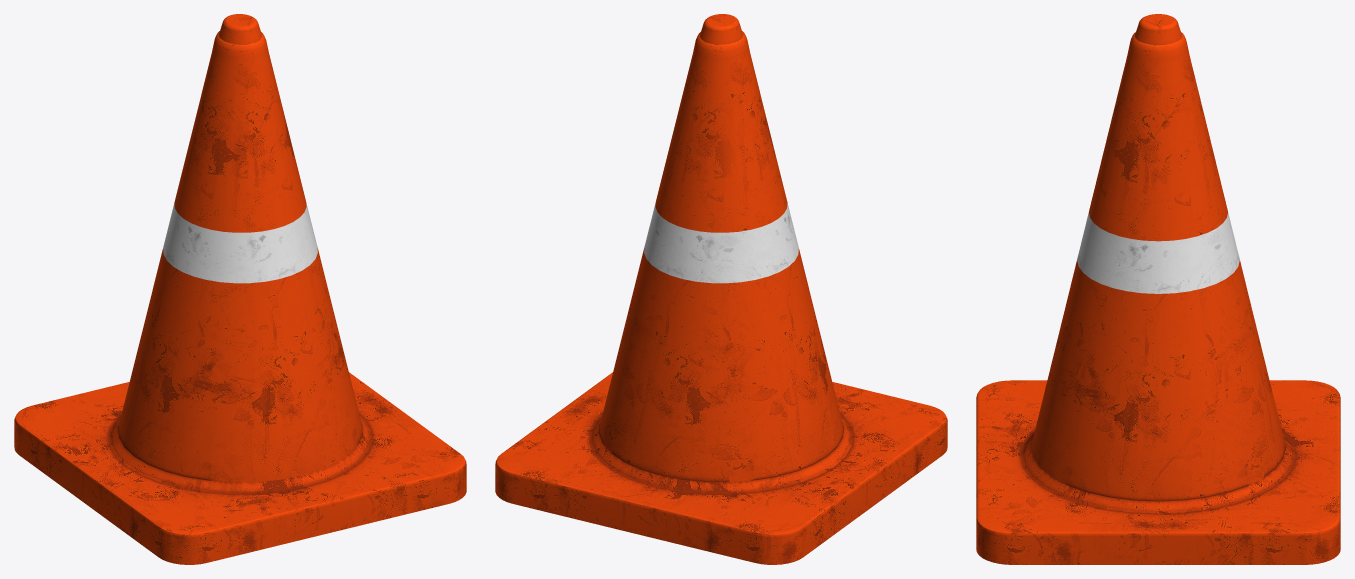
3 views of the same model, side by side, from view 1: azimuth 30°, elevation 25°; view 2: azimuth 150°, elevation 25°; view 3: azimuth 270°, elevation 25° (orthographic). The views are drawn at different scales.
Parts seen in each view (by area): view 1: trafficCone.001, trafficCone; view 2: trafficCone.001, trafficCone; view 3: trafficCone.001, trafficCone.
Boxes of the visible parts, <box> form: trafficCone.001: <box>14,14,466,564</box>; trafficCone: <box>163,203,317,283</box>; trafficCone.001: <box>495,14,947,564</box>; trafficCone: <box>644,203,798,283</box>; trafficCone.001: <box>976,14,1340,564</box>; trafficCone: <box>1077,212,1239,293</box>.
Size of the model in its own units: 0.4 by 0.5666 by 0.4.
Materials: 2 (2 with a texture image).
